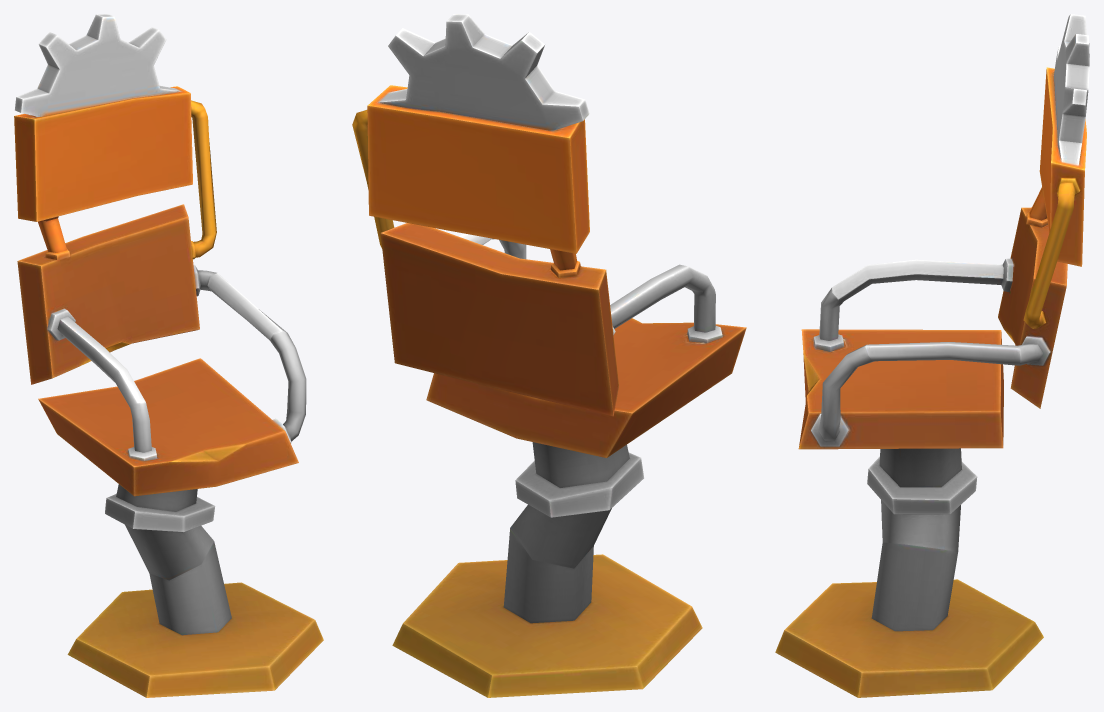
Rendered from obj_bench01_base.gltf.
3 renders of one model, left to right at view 1: azimuth 30°, elevation 25°; view 2: azimuth 150°, elevation 25°; view 3: azimuth 270°, elevation 25°, orthographic. The views are drawn at different scales.
Parts seen in each view (by area): view 1: obj_bench01_base; view 2: obj_bench01_base; view 3: obj_bench01_base.
Part boxes in pixels (x1,y1,x2,y2): obj_bench01_base: (14, 14, 323, 697); obj_bench01_base: (352, 14, 746, 697); obj_bench01_base: (775, 14, 1089, 697).
Size of what is drawn, in the model's own units: 0.7342 by 1.86 by 0.8761.
Materials: 1 (1 with a texture image).
